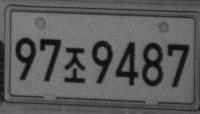4: (115, 41, 139, 86)
7: (38, 38, 62, 82), (167, 43, 190, 87)
8: (140, 41, 164, 87)
9: (13, 36, 37, 81), (90, 39, 113, 84)
조: (63, 46, 85, 84)
